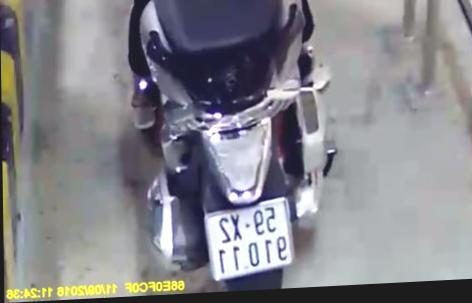License_Plate: (198, 191, 299, 283)
